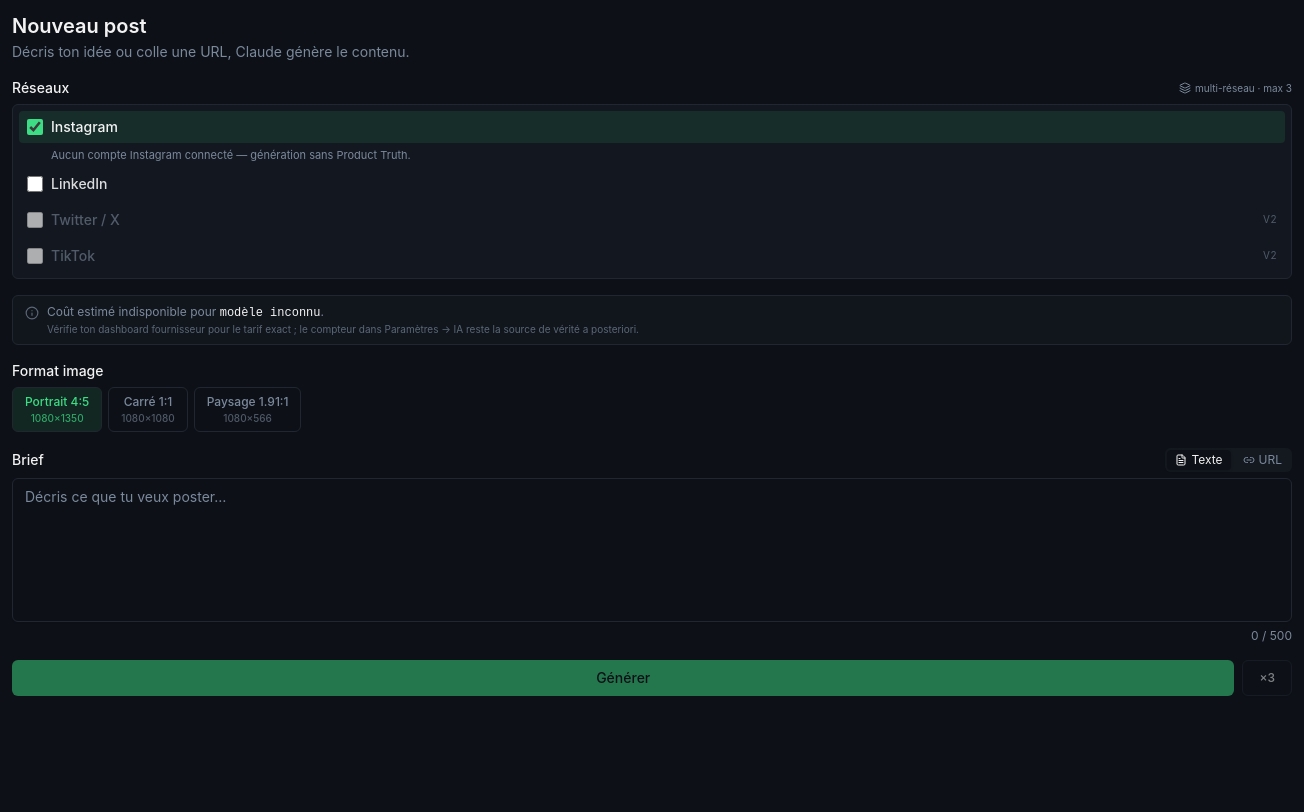
Test case: BriefForm — validation Zod › affiche le compteur de caractères
The width and height of the screenshot is (1304, 812).
Type "Bonjour" into the text box with placeholder "Décris ce que tu veux poster…" at (652, 550), box [12,478,1292,622]
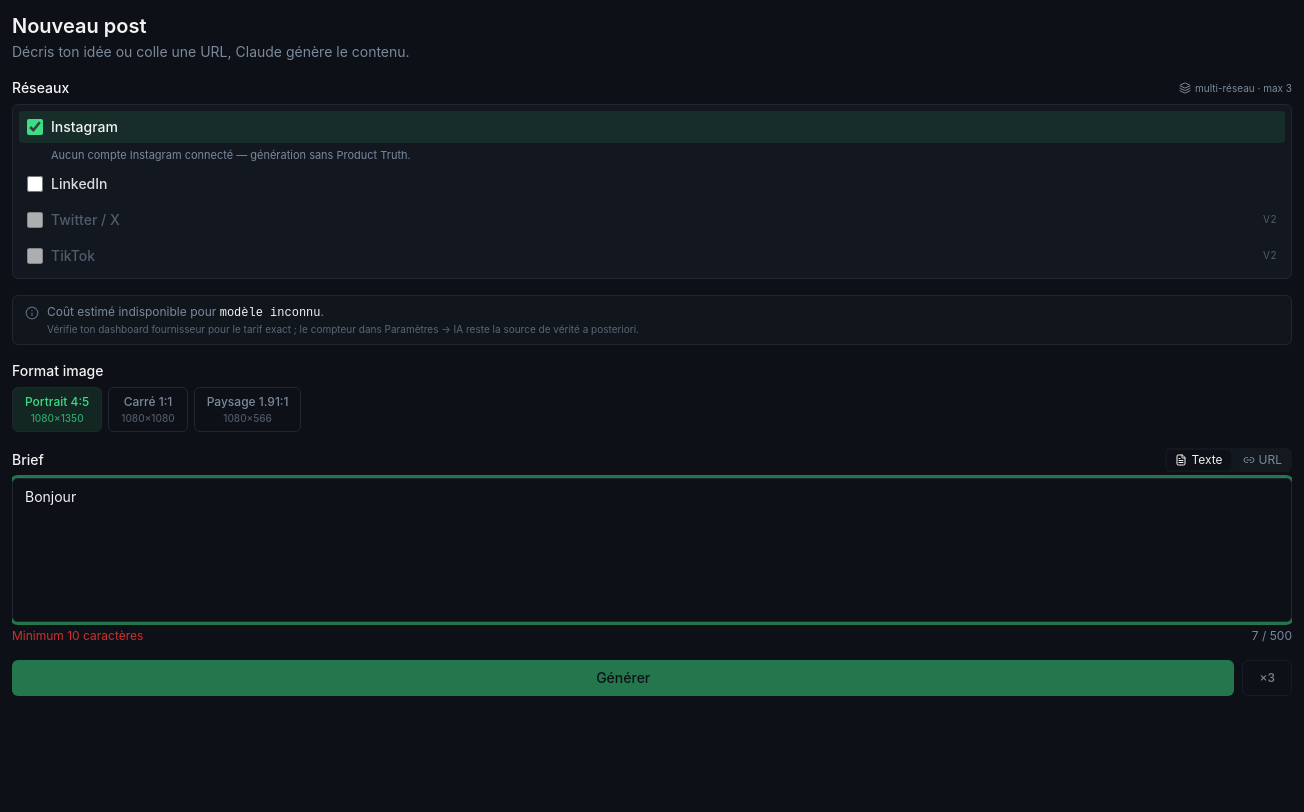
Check: the text "7 / 500" is shown, box [1252,628,1292,644]
